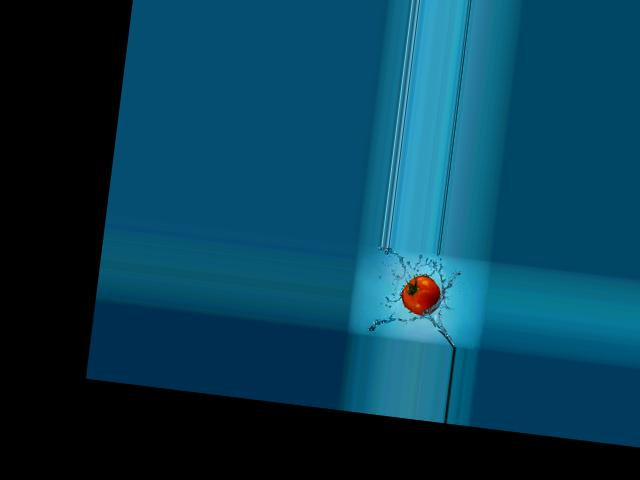tomato: (400, 272, 442, 316)
